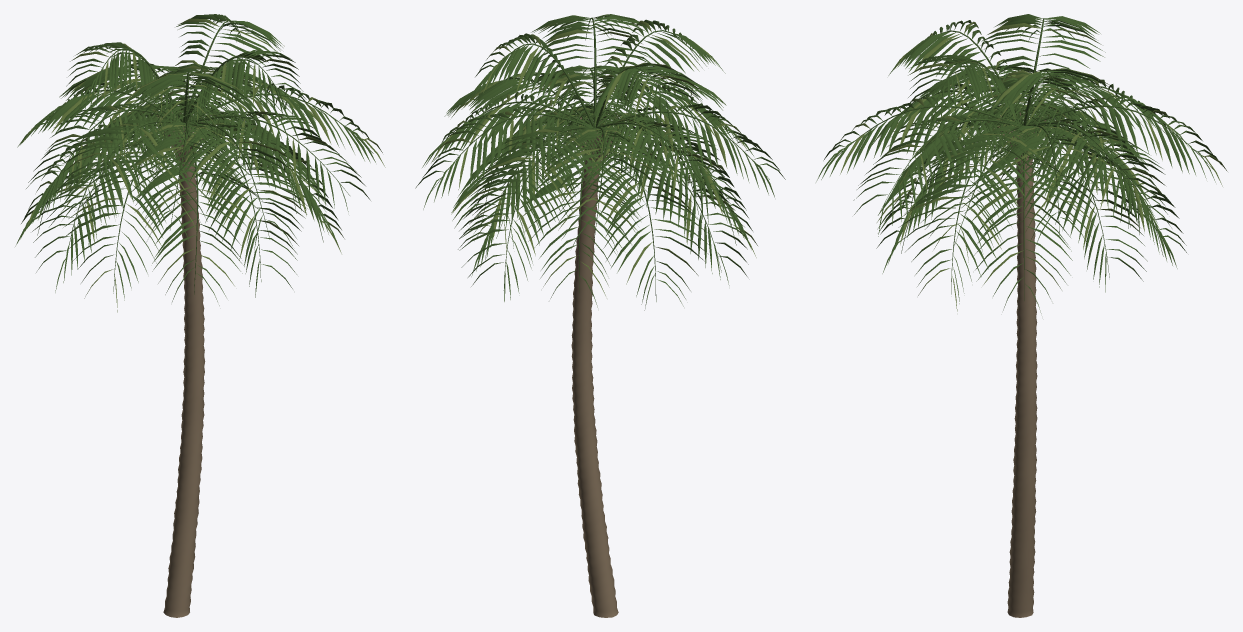
File: palm.glb
3 views of the same model, side by side, from view 1: azimuth 30°, elevation 25°; view 2: azimuth 150°, elevation 25°; view 3: azimuth 270°, elevation 25° (orthographic).
Parts seen in each view (by area): view 1: palm-frond, wood, palm-frond-light; view 2: palm-frond, wood, palm-frond-light; view 3: palm-frond, wood, palm-frond-light.
Part boxes in pixels (x1,y1,x2,y2): palm-frond: (15, 14, 375, 305); wood: (157, 112, 209, 617); palm-frond-light: (22, 18, 385, 312); palm-frond: (415, 14, 785, 310); wood: (570, 112, 618, 617); palm-frond-light: (431, 14, 757, 295); palm-frond: (816, 14, 1221, 313); wood: (997, 112, 1046, 617); palm-frond-light: (840, 18, 1227, 311).
Size of the model in its own units: 7.28 by 11.87 by 7.78.
